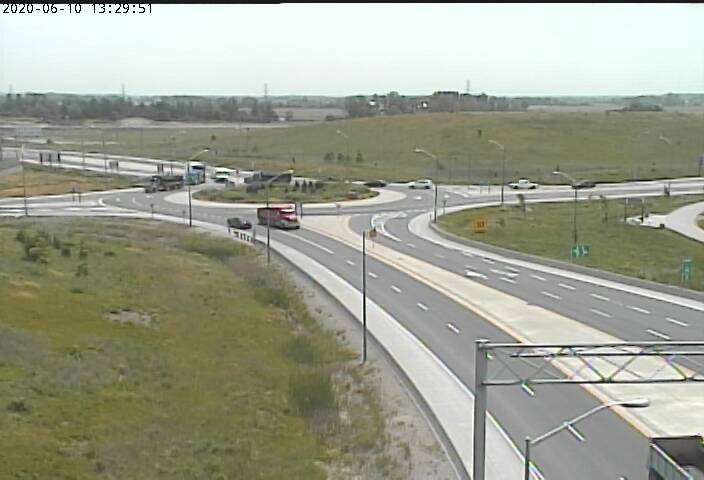time_stamp: (1, 1, 158, 18)
